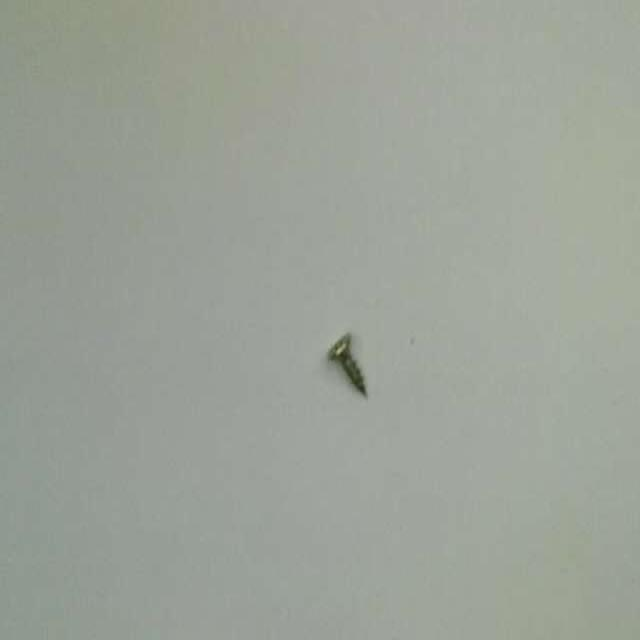Parafuso: (329, 333, 364, 391)
